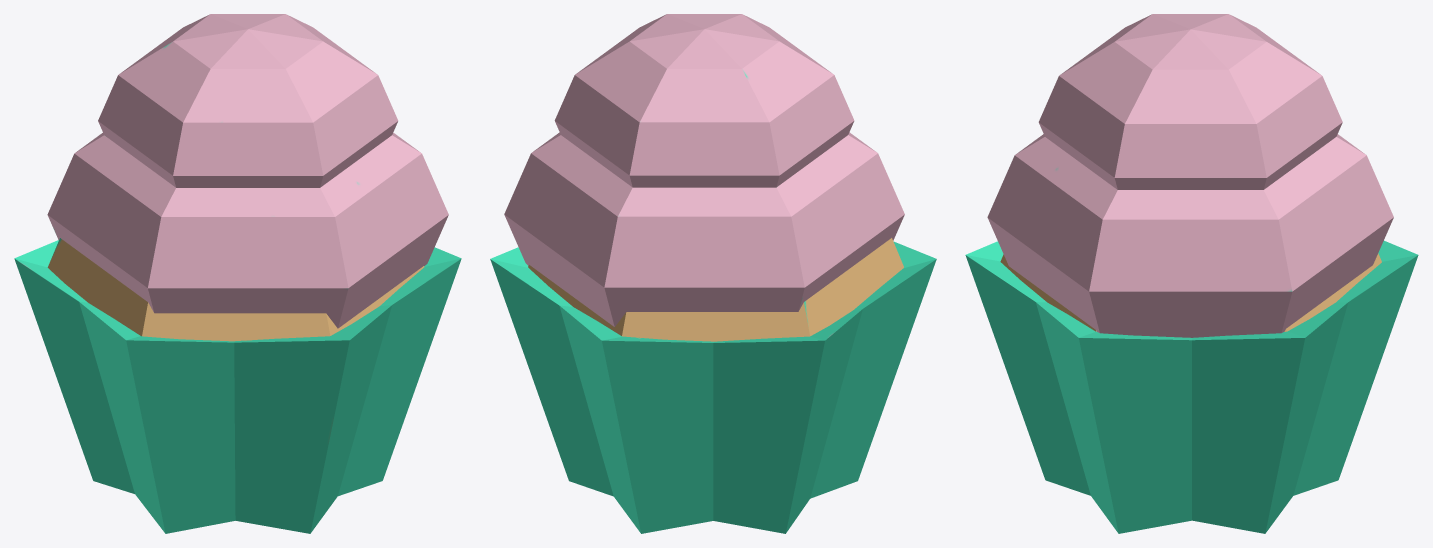
Rendered from Cupcake_4.fbx.
The picture shows the model from 3 angles, left to right: view 1: azimuth 30°, elevation 25°; view 2: azimuth 150°, elevation 25°; view 3: azimuth 270°, elevation 25°; orthographic projection.
Parts seen in each view (by area): view 1: Cupcake four; view 2: Cupcake four; view 3: Cupcake four.
Boxes of the visible parts, x1,y1,x2,y2 form: Cupcake four: [14, 14, 461, 533]; Cupcake four: [490, 14, 936, 533]; Cupcake four: [965, 14, 1418, 533].
Bounding box in the file's own units: 97.67 × 125 × 113.
